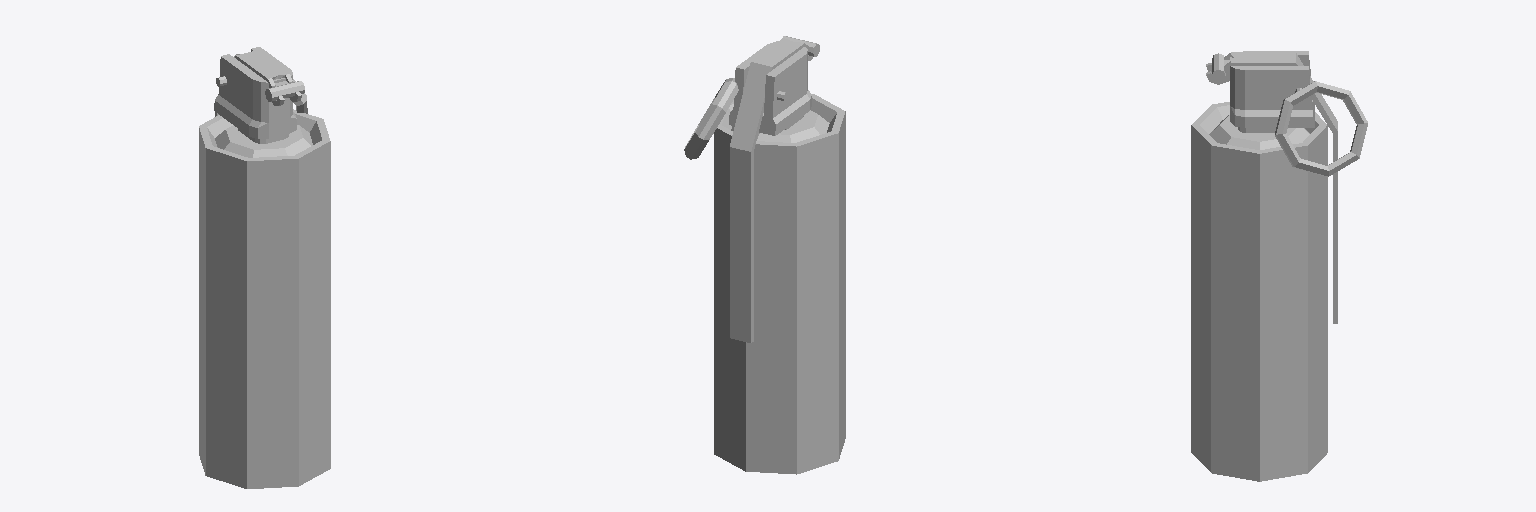
File: Smoke_West.obj
3 renders of one model, left to right at view 1: azimuth 30°, elevation 25°; view 2: azimuth 150°, elevation 25°; view 3: azimuth 270°, elevation 25°, orthographic.
Visible parts, largest first — view 1: Smoke_West; view 2: Smoke_West; view 3: Smoke_West.
Boxes of the visible parts, <box> form: Smoke_West: <box>199,47,330,488</box>; Smoke_West: <box>684,36,845,474</box>; Smoke_West: <box>1191,51,1367,481</box>.
Bounding box in the file's own units: 0.0512 × 0.16 × 0.0649.